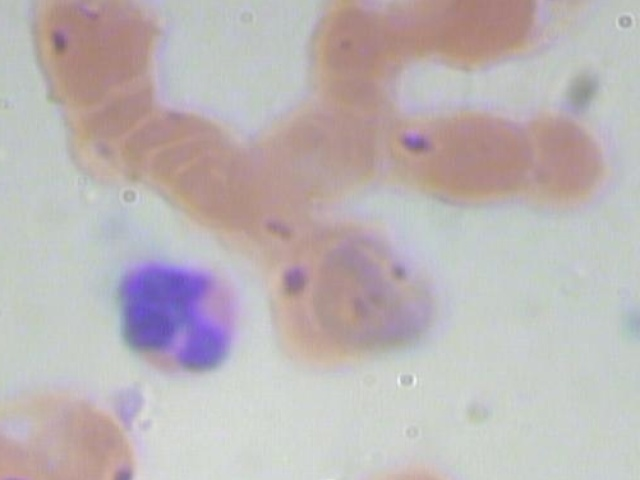RBC: (310, 225, 458, 357), (382, 100, 523, 208), (240, 98, 377, 208), (24, 0, 161, 108), (494, 114, 637, 217), (27, 402, 164, 480), (338, 447, 476, 480)
WBC: (107, 257, 242, 383)
